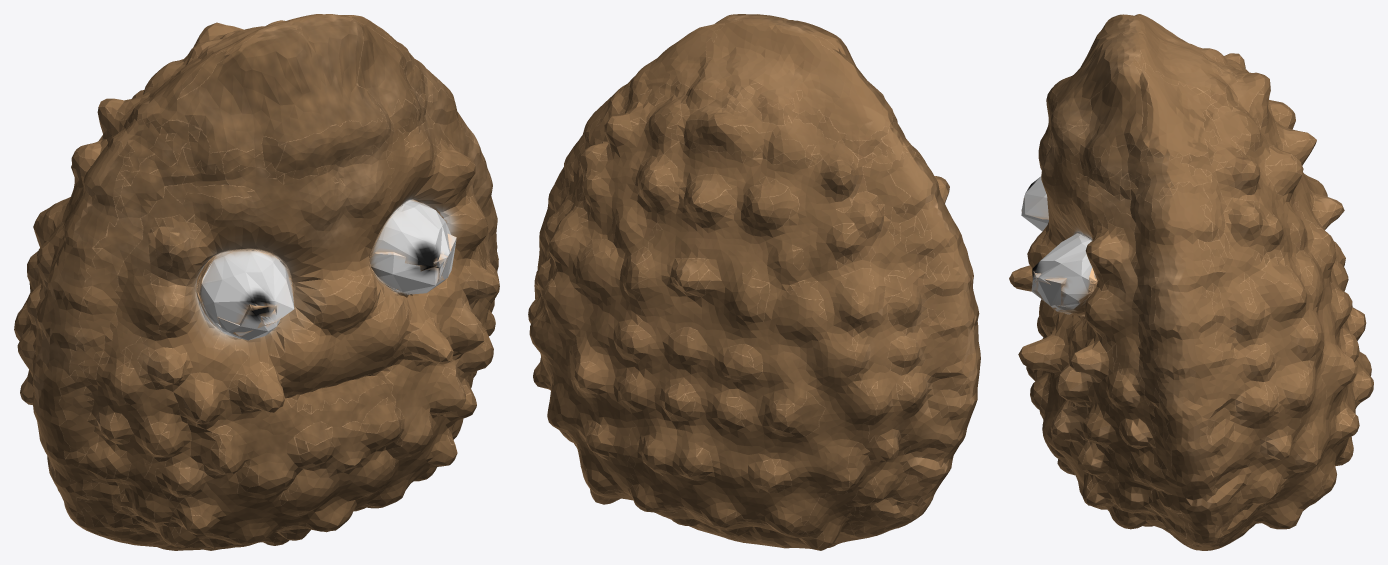
The model's file is photoes2.obj.
3 renders of one model, left to right at view 1: azimuth 30°, elevation 25°; view 2: azimuth 150°, elevation 25°; view 3: azimuth 270°, elevation 25°, orthographic. The views are drawn at different scales.
Parts seen in each view (by area): view 1: Sphere; view 2: Sphere; view 3: Sphere.
Part boxes in pixels (left/top/right/bottom): Sphere: left=14, top=14, right=499, bottom=550; Sphere: left=528, top=14, right=980, bottom=550; Sphere: left=1009, top=14, right=1373, bottom=550.
Bounding box in the file's own units: 2.17 × 2.41 × 1.62.
